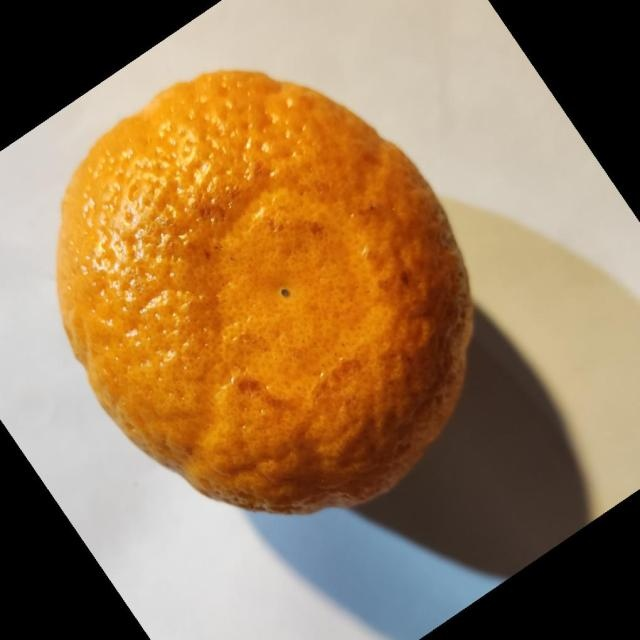agrume: (55, 68, 475, 516)
